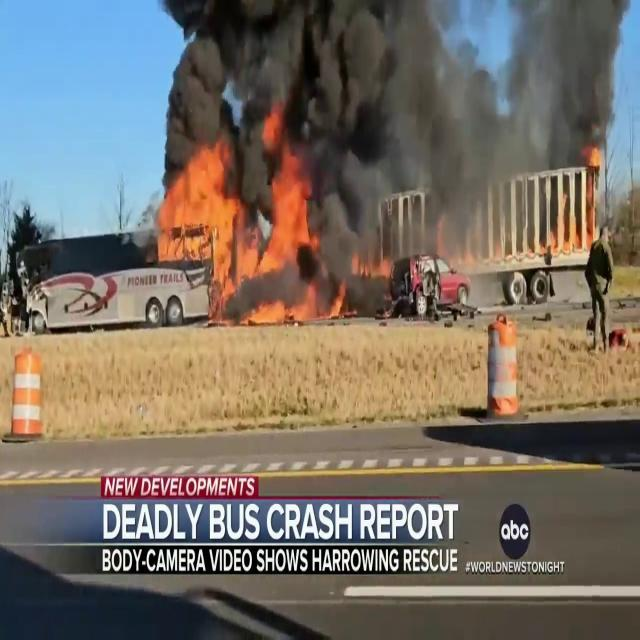Fire: (146, 140, 318, 320)
Smoke: (156, 0, 466, 189), (472, 0, 638, 185)
